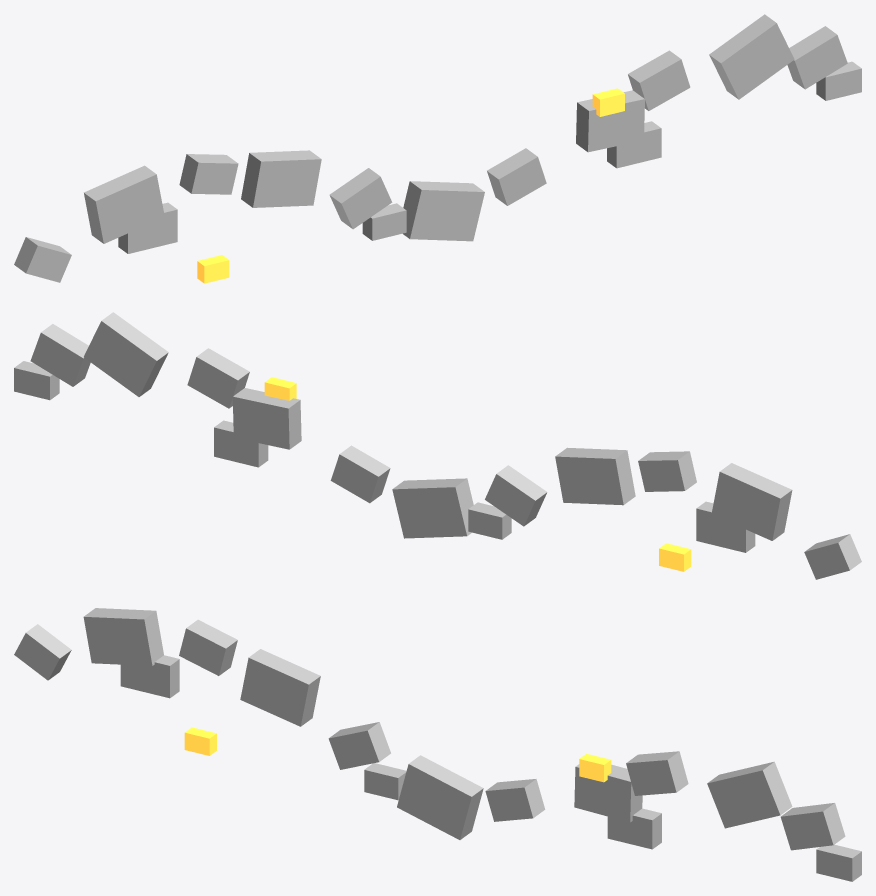
Rendered from wa_ore_vein.glb.
The picture shows the model from 3 angles, top to bottom: view 1: azimuth 30°, elevation 25°; view 2: azimuth 150°, elevation 25°; view 3: azimuth 330°, elevation 25°; orthographic projection.
Parts seen in each view (by area): view 1: wa_ore_vein; view 2: wa_ore_vein; view 3: wa_ore_vein.
Part boxes in pixels (bbox=[...]): wa_ore_vein: bbox=[14, 14, 861, 283]; wa_ore_vein: bbox=[14, 312, 861, 579]; wa_ore_vein: bbox=[14, 608, 861, 881].
Size of the model in its own units: 4.03 by 0.6685 by 0.13.
